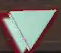Give way: (0, 3, 59, 49)
